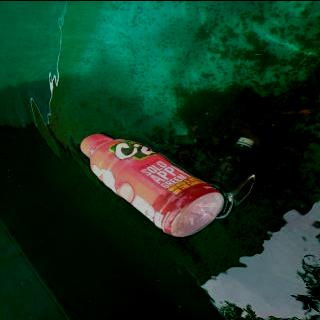bottle: (78, 132, 228, 238)
